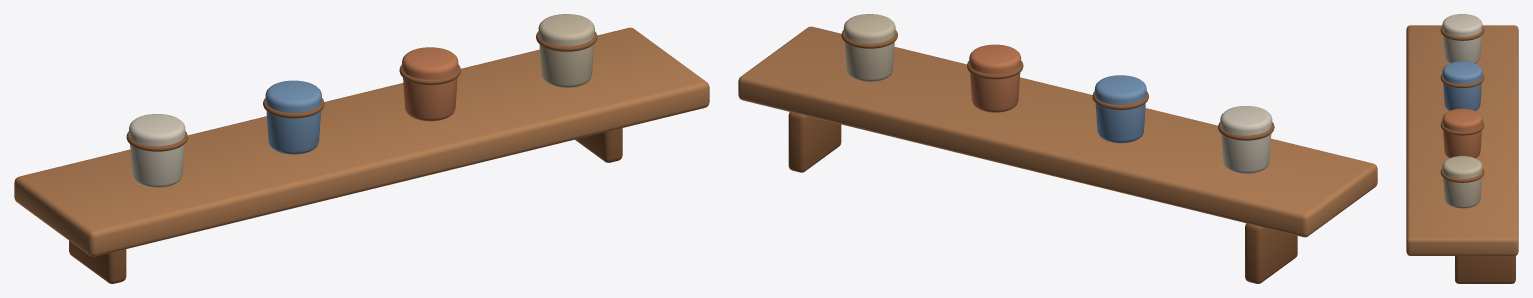
The model's file is cup_shelf.glb.
3 views of the same model, side by side, from view 1: azimuth 30°, elevation 25°; view 2: azimuth 150°, elevation 25°; view 3: azimuth 270°, elevation 25° (orthographic). The views are drawn at different scales.
Parts seen in each view (by area): view 1: cup_shelf_board, cup_shelf_cup.002, cup_shelf_cup.003, cup_shelf_cup, cup_shelf_cup.001, cup_shelf_bracket, cup_shelf_bracket.001; view 2: cup_shelf_board, cup_shelf_cup.003, cup_shelf_cup.001, cup_shelf_cup.002, cup_shelf_cup, cup_shelf_bracket.001, cup_shelf_bracket; view 3: cup_shelf_board, cup_shelf_cup.003, cup_shelf_bracket.001, cup_shelf_cup.001, cup_shelf_cup, cup_shelf_cup.002, cup_shelf_cup_band.002, cup_shelf_cup_band, cup_shelf_cup_band.003, cup_shelf_cup_band.001.
Boxes of the visible parts, x1,y1,x2,y2 form: cup_shelf_board: [14, 27, 709, 256]; cup_shelf_cup.002: [402, 47, 458, 121]; cup_shelf_cup.003: [538, 14, 594, 87]; cup_shelf_cup: [129, 114, 185, 187]; cup_shelf_cup.001: [265, 80, 321, 154]; cup_shelf_bracket: [69, 240, 126, 283]; cup_shelf_bracket.001: [575, 128, 622, 162]; cup_shelf_board: [738, 26, 1377, 237]; cup_shelf_cup.003: [843, 14, 895, 81]; cup_shelf_cup.001: [1094, 75, 1146, 143]; cup_shelf_cup.002: [969, 44, 1021, 112]; cup_shelf_cup: [1220, 106, 1272, 173]; cup_shelf_bracket.001: [788, 112, 841, 172]; cup_shelf_bracket: [1245, 223, 1297, 283]; cup_shelf_board: [1406, 25, 1518, 255]; cup_shelf_cup.003: [1442, 156, 1482, 208]; cup_shelf_bracket.001: [1455, 256, 1515, 283]; cup_shelf_cup.001: [1442, 61, 1482, 110]; cup_shelf_cup: [1442, 14, 1482, 63]; cup_shelf_cup.002: [1442, 108, 1482, 158]; cup_shelf_cup_band.002: [1440, 121, 1484, 135]; cup_shelf_cup_band: [1440, 26, 1484, 40]; cup_shelf_cup_band.003: [1440, 168, 1484, 182]; cup_shelf_cup_band.001: [1440, 74, 1484, 88].
Bounding box in the file's own units: 1 × 0.225 × 0.22.
